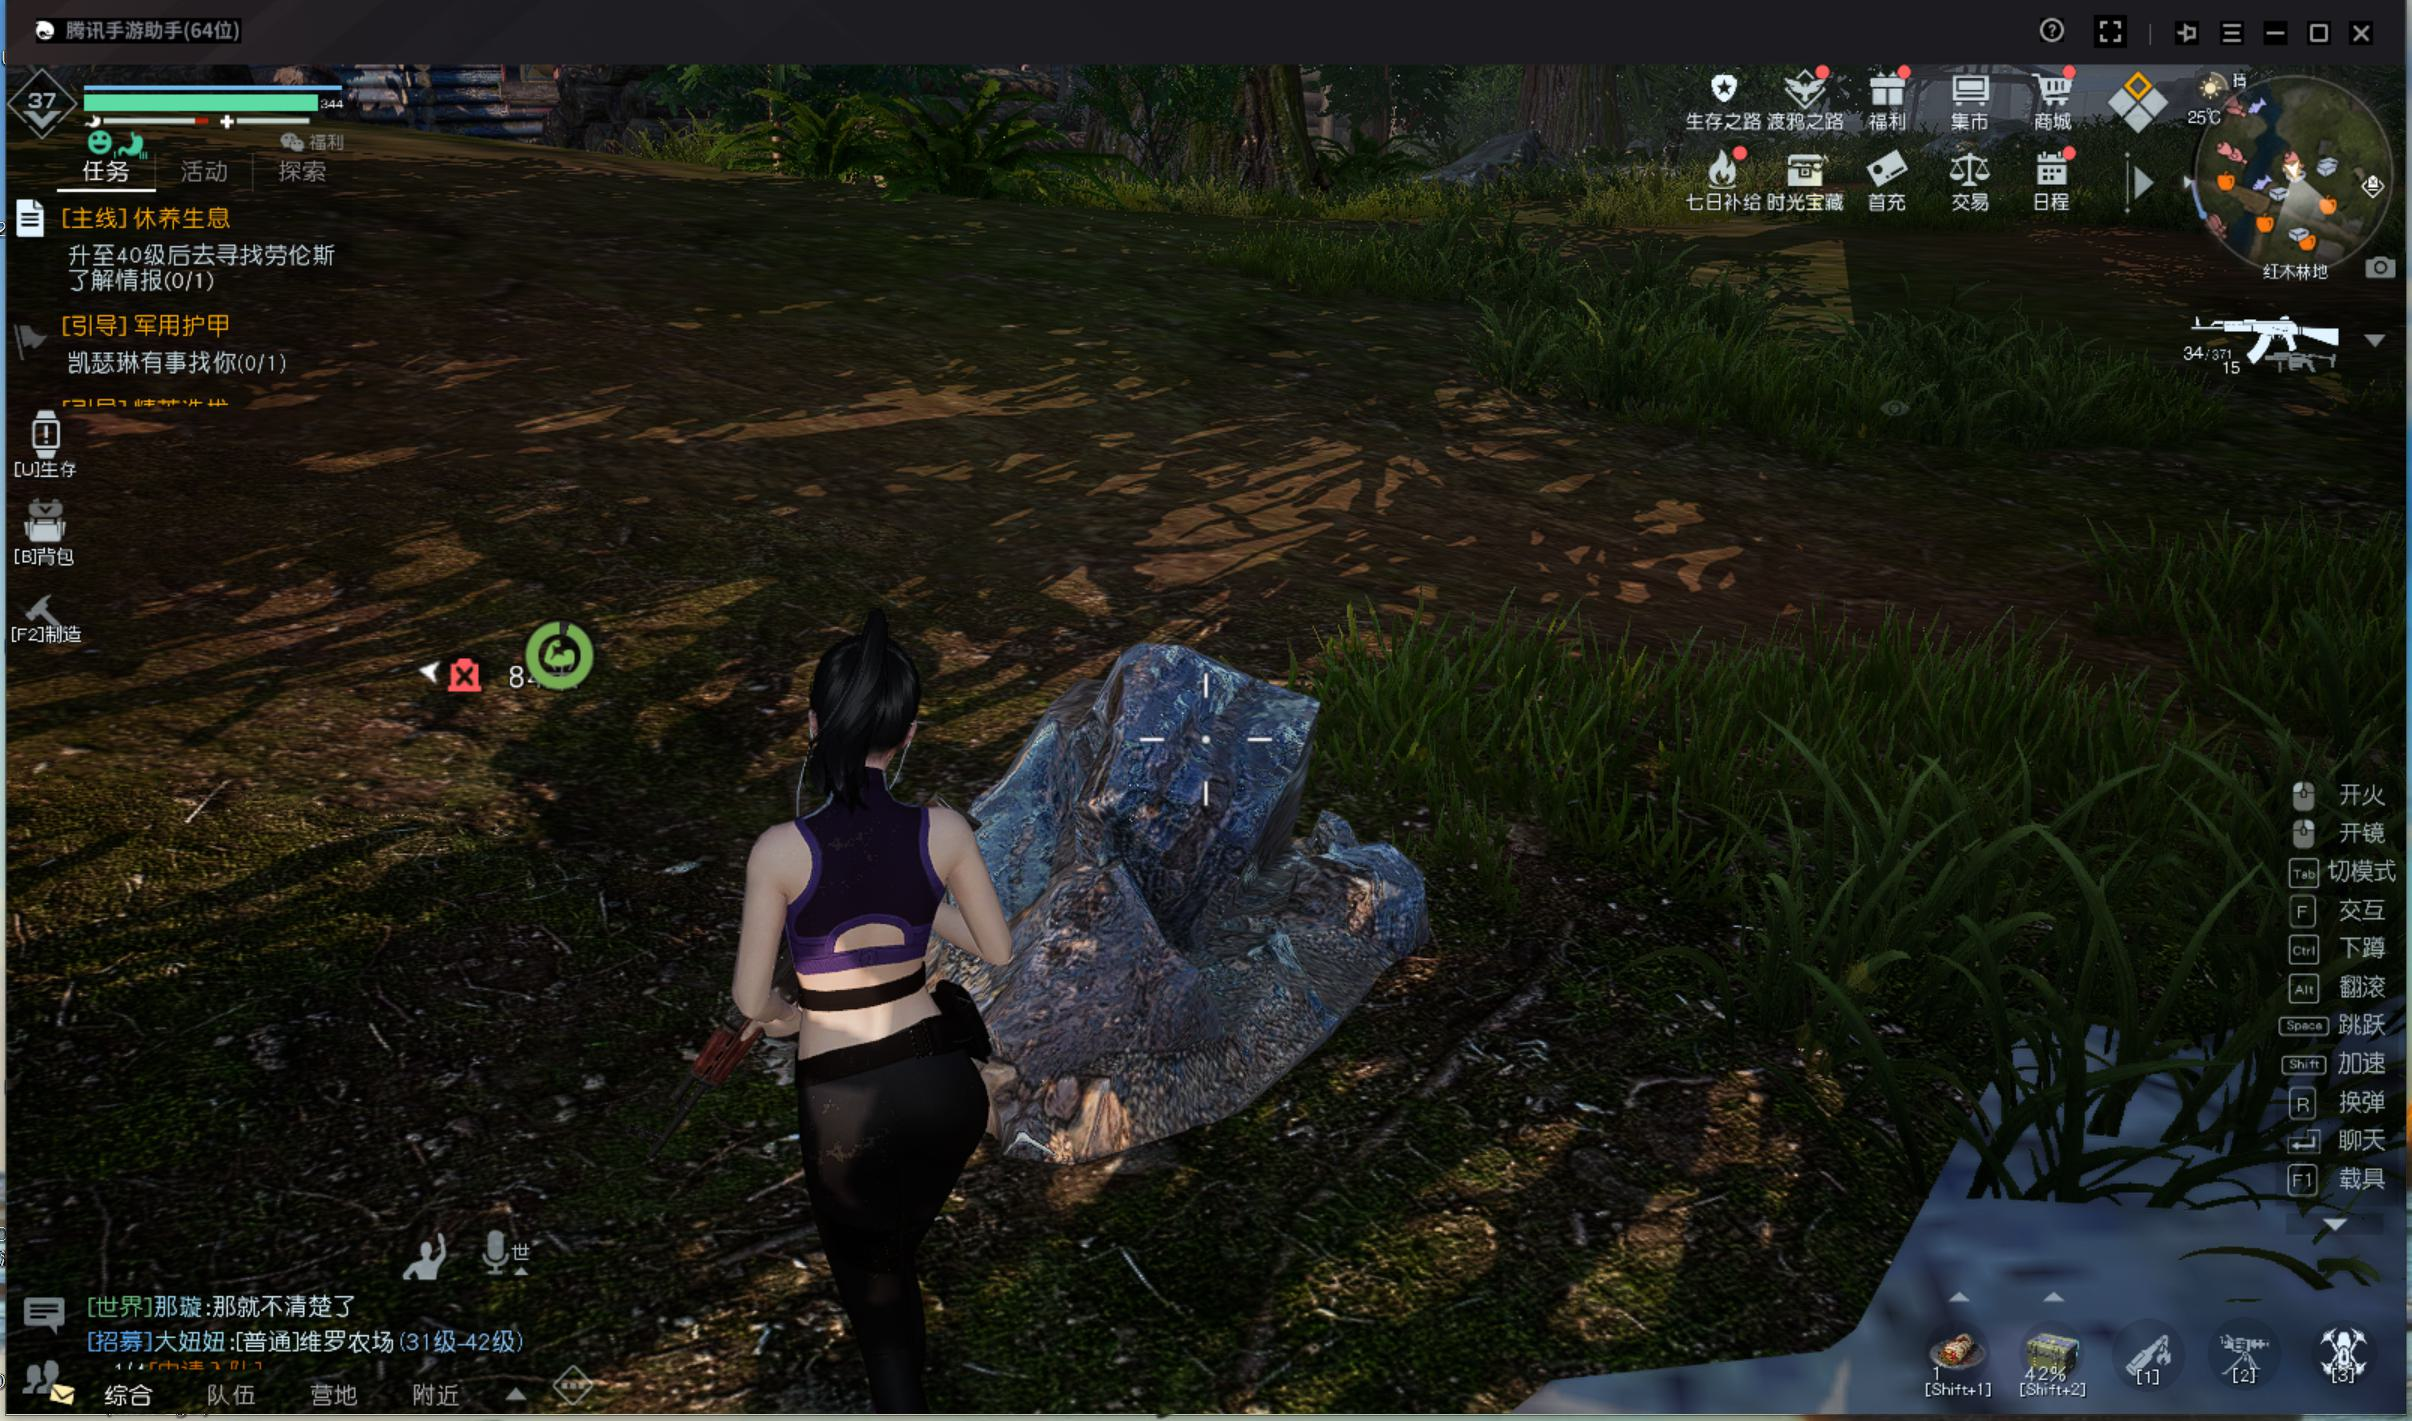stone: (1006, 616, 1504, 1078)
